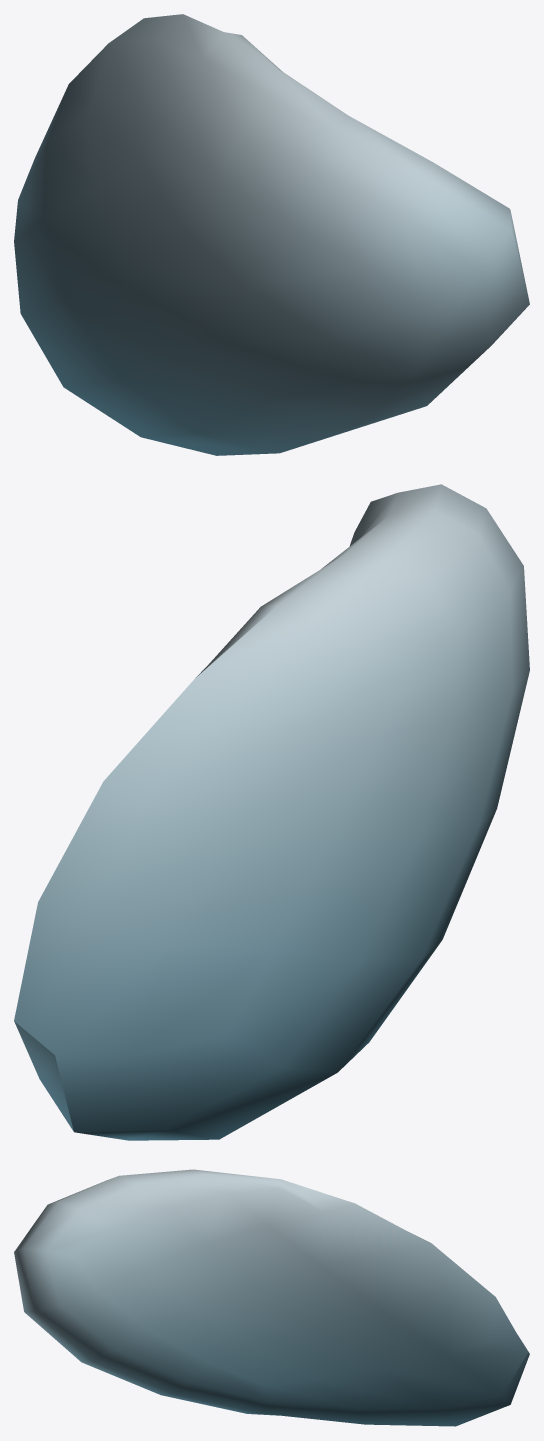
Rendered from Rock_05.fbx.
3 views of the same model, one above another, from view 1: azimuth 30°, elevation 25°; view 2: azimuth 150°, elevation 25°; view 3: azimuth 270°, elevation 25° (orthographic). The views are drawn at different scales.
Visible parts, largest first — view 1: RockMesh_05; view 2: RockMesh_05; view 3: RockMesh_05.
Part boxes in pixels (left/top/right/bottom): RockMesh_05: left=14, top=14, right=529, bottom=455; RockMesh_05: left=14, top=484, right=529, bottom=1140; RockMesh_05: left=14, top=1169, right=529, bottom=1426.
Bounding box in the file's own units: 6449 × 10500 × 19079.
